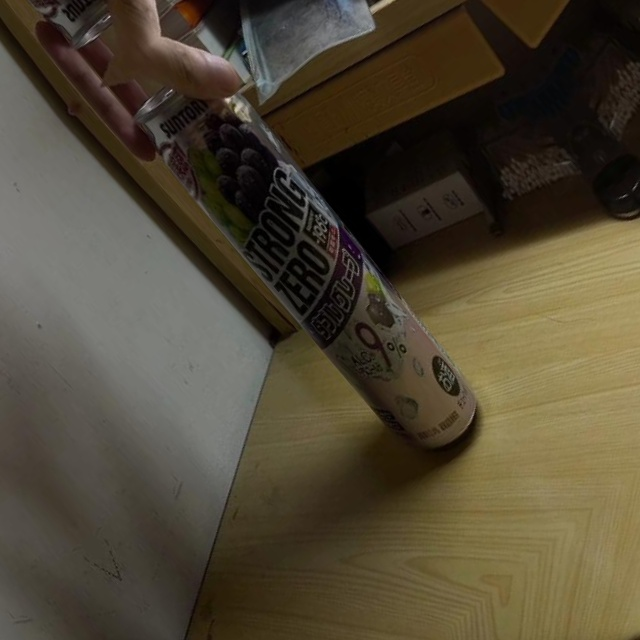Liquor: (118, 44, 502, 473)
